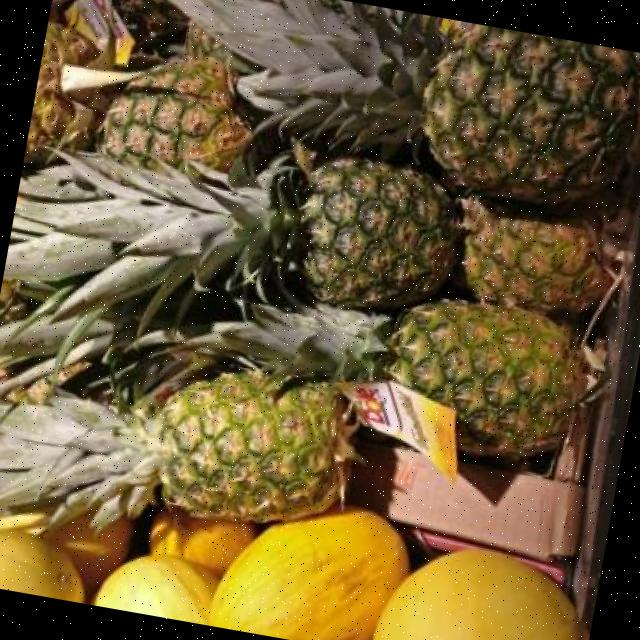pineapple: (423, 17, 636, 184), (389, 299, 586, 455), (158, 370, 354, 521), (303, 158, 460, 307), (102, 49, 247, 170), (462, 199, 610, 313), (25, 21, 98, 153), (112, 0, 187, 55)
